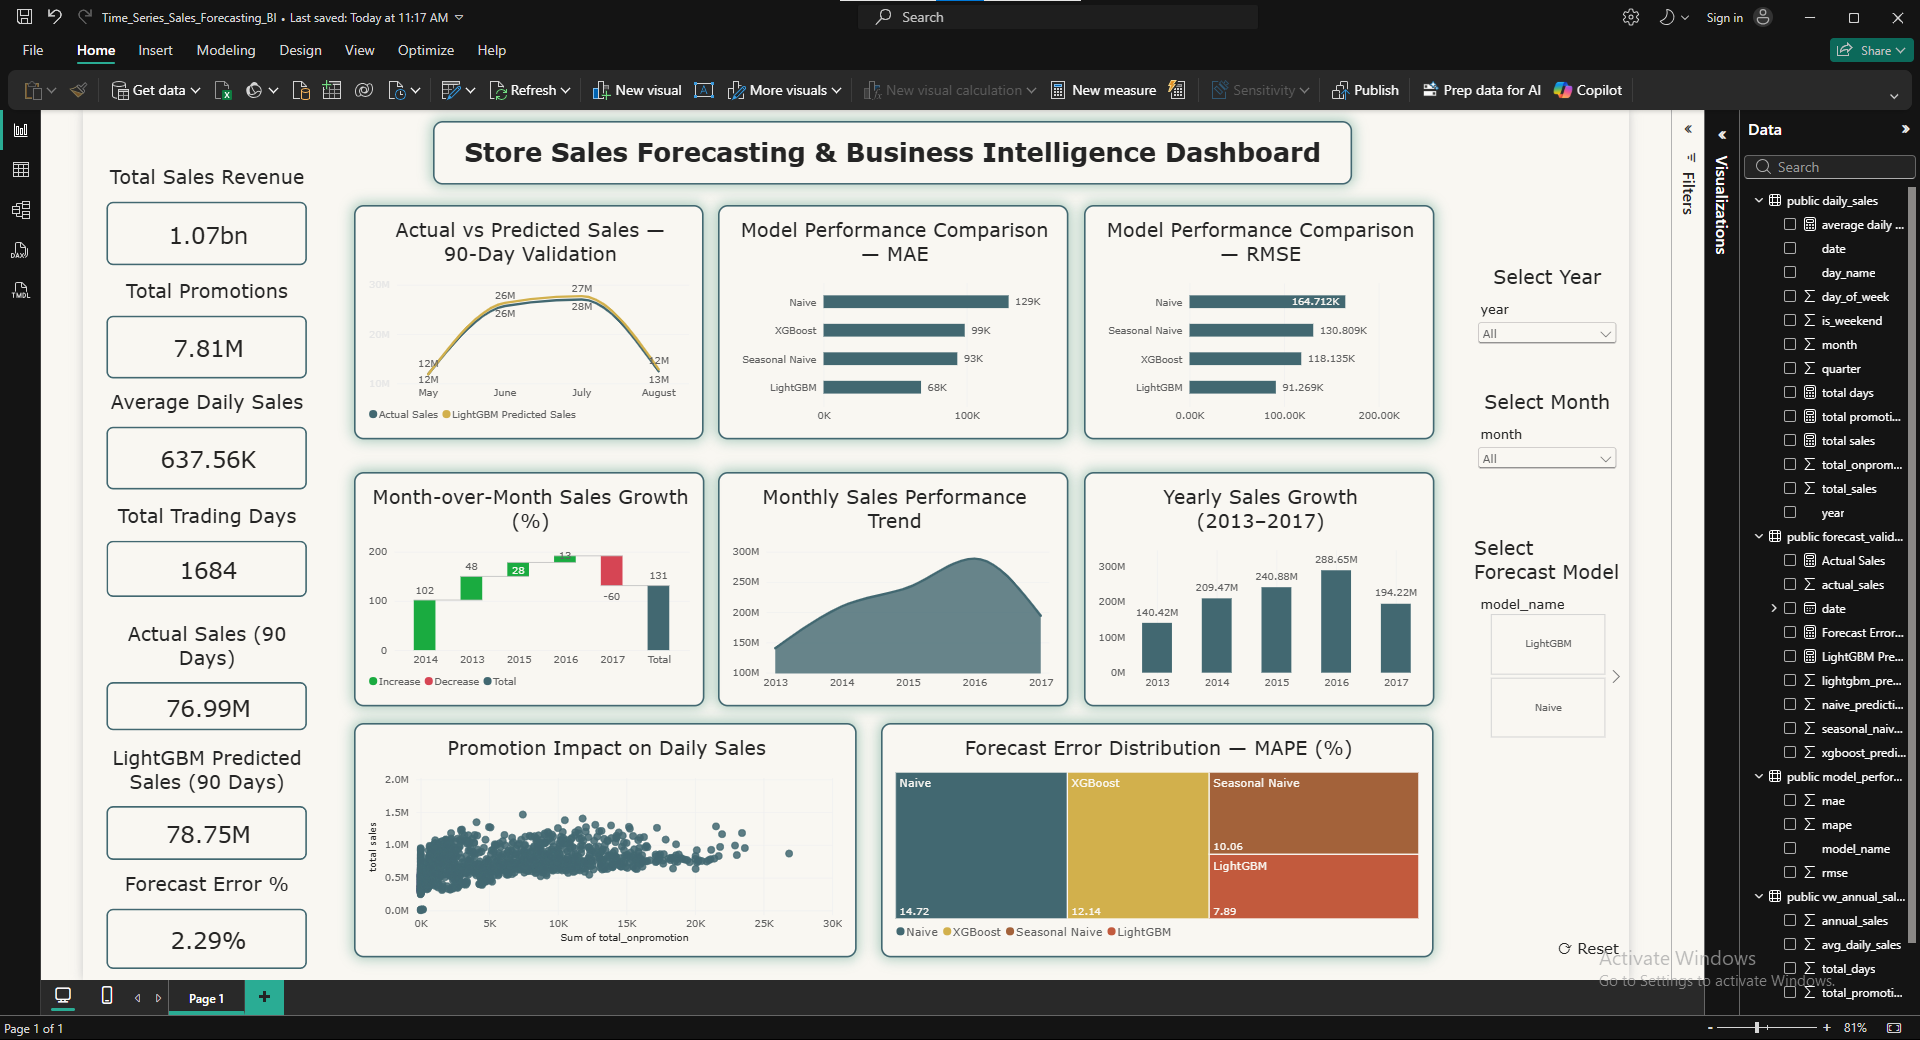

Layout of this report page (visuals, bound fields, positions):
{"tool":"powerbi","page":{"name":"Page 1","canvas":[1920,1080],"ordinal":0},"visuals":[{"type":"cardVisual","title":"Total Sales Revenue","fields":{"Data":["public daily_sales.total sales"]},"box":[28.5,68.6,251,125.5],"z":0},{"type":"cardVisual","title":"Total Promotions","fields":{"Data":["public daily_sales.total promotions"]},"box":[28.5,209.6,251,124.2],"z":1},{"type":"cardVisual","title":"Average Daily Sales","fields":{"Data":["public daily_sales.average daily sales"]},"box":[28.5,348,251,124.2],"z":2},{"type":"cardVisual","title":"Total Trading Days","fields":{"Data":["public daily_sales.total days"]},"box":[28.5,489.1,251,116.4],"z":3},{"type":"cardVisual","title":"Actual Sales (90 Days)","fields":{"Data":["public forecast_validation.Actual Sales"]},"box":[28.5,635.3,251,135.8],"z":4},{"type":"cardVisual","title":"LightGBM Predicted Sales (90 Days)","fields":{"Data":["public forecast_validation.LightGBM Predicted Sales"]},"box":[28.5,789.2,251,142.3],"z":5},{"type":"cardVisual","title":"Forecast Error %","fields":{"Data":["public forecast_validation.Forecast Error %"]},"box":[28.5,945.8,251,121.6],"z":6},{"type":"lineChart","title":"Actual vs Predicted Sales — 90-Day Validation","fields":{"Category":["public forecast_validation.date.Variation.Date Hierarchy.Month"],"Y":["public forecast_validation.Actual Sales","public forecast_validation.LightGBM Predicted Sales"]},"box":[336.4,117.7,434.3,291.4],"z":7},{"type":"clusteredBarChart","title":"Model Performance Comparison — MAE","fields":{"Category":["public model_performance.model_name"],"Y":["Sum(public model_performance.mae)"]},"box":[787.9,117.7,434.7,291.1],"z":8},{"type":"clusteredBarChart","title":"Model Performance Comparison — RMSE","fields":{"Category":["public model_performance.model_name"],"Y":["Sum(public model_performance.rmse)"]},"box":[1242,117.7,434.7,291.1],"z":9},{"type":"treemap","title":"Forecast Error Distribution — MAPE (%)","fields":{"Group":["public model_performance.model_name"],"Values":["Sum(public model_performance.mape)"]},"box":[991.1,760.8,685.7,291.1],"z":10},{"type":"areaChart","title":"Monthly Sales Performance Trend","fields":{"Category":["public vw_monthly_sales_performance.year","public vw_monthly_sales_performance.month"],"Y":["Sum(public vw_monthly_sales_performance.monthly_sales)"]},"box":[787.9,448.9,434.7,291.1],"z":11},{"type":"clusteredColumnChart","title":"Yearly Sales Growth (2013–2017)","fields":{"Category":["public vw_annual_sales_performance.year"],"Y":["Sum(public vw_annual_sales_performance.annual_sales)"]},"box":[1242,448.9,434.7,291.1],"z":12},{"type":"waterfallChart","title":"Month-over-Month Sales Growth (%)","fields":{"Category":["public vw_monthly_sales_performance.year","public vw_monthly_sales_performance.month"],"Y":["Sum(public vw_monthly_sales_performance.mom_growth_percentage)"]},"box":[336.4,448.9,434.7,291.1],"z":13},{"type":"scatterChart","title":"Promotion Impact on Daily Sales","fields":{"Category":["public daily_sales.date"],"X":["Sum(public daily_sales.total_onpromotion)"],"Y":["public daily_sales.total sales"]},"box":[336.4,760.8,623.6,291.1],"z":14},{"type":"slicer","title":"Select Year","fields":{"Values":["public daily_sales.year"]},"box":[1726.8,192.4,181.9,140.9],"z":15},{"type":"slicer","title":"Select Month","fields":{"Values":["public daily_sales.month"]},"box":[1726.8,347.6,181.9,154.5],"z":16},{"type":"slicer","title":"Select Forecast Model","fields":{"Values":["public model_performance.model_name"]},"box":[1726.8,528.8,182.4,252.3],"z":17},{"type":"textbox","box":[434.7,14.2,1141.1,78.9],"z":18},{"type":"actionButton","title":"⟳ Reset","box":[1818.3,1028.5,100,40],"z":19}]}

Visuals, with their boxes on the page's 1920x1080 design canvas (x1, y1, x2, y2). These are canvas units, not pixel positions in the 1920x1040 screenshot, which may show the page scaled, cropped or inside an application window:
"Total Sales Revenue" cardVisual: 28, 69, 280, 194
"Total Promotions" cardVisual: 28, 210, 280, 334
"Average Daily Sales" cardVisual: 28, 348, 280, 472
"Total Trading Days" cardVisual: 28, 489, 280, 606
"Actual Sales (90 Days)" cardVisual: 28, 635, 280, 771
"LightGBM Predicted Sales (90 Days)" cardVisual: 28, 789, 280, 932
"Forecast Error %" cardVisual: 28, 946, 280, 1067
"Actual vs Predicted Sales — 90-Day Validation" lineChart: 336, 118, 771, 409
"Model Performance Comparison — MAE" clusteredBarChart: 788, 118, 1223, 409
"Model Performance Comparison — RMSE" clusteredBarChart: 1242, 118, 1677, 409
"Forecast Error Distribution — MAPE (%)" treemap: 991, 761, 1677, 1052
"Monthly Sales Performance Trend" areaChart: 788, 449, 1223, 740
"Yearly Sales Growth (2013–2017)" clusteredColumnChart: 1242, 449, 1677, 740
"Month-over-Month Sales Growth (%)" waterfallChart: 336, 449, 771, 740
"Promotion Impact on Daily Sales" scatterChart: 336, 761, 960, 1052
"Select Year" slicer: 1727, 192, 1909, 333
"Select Month" slicer: 1727, 348, 1909, 502
"Select Forecast Model" slicer: 1727, 529, 1909, 781
textbox: 435, 14, 1576, 93
"⟳ Reset" actionButton: 1818, 1028, 1918, 1068
